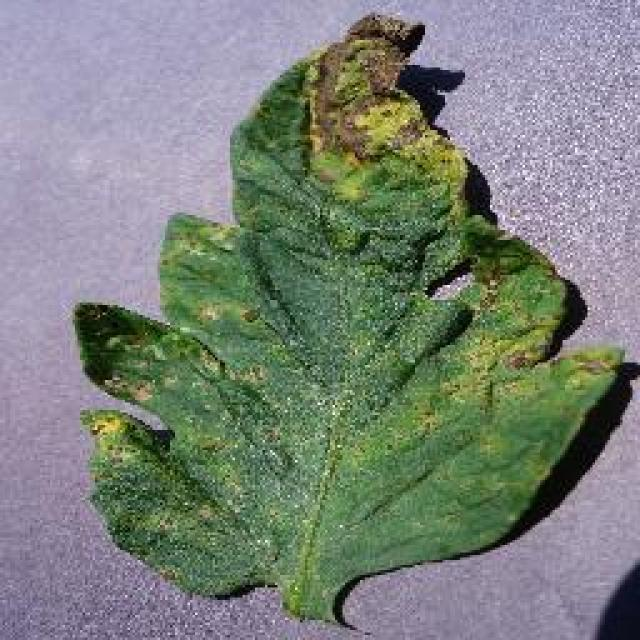Tomato___Septoria_leaf_spot: (72, 15, 622, 620)
